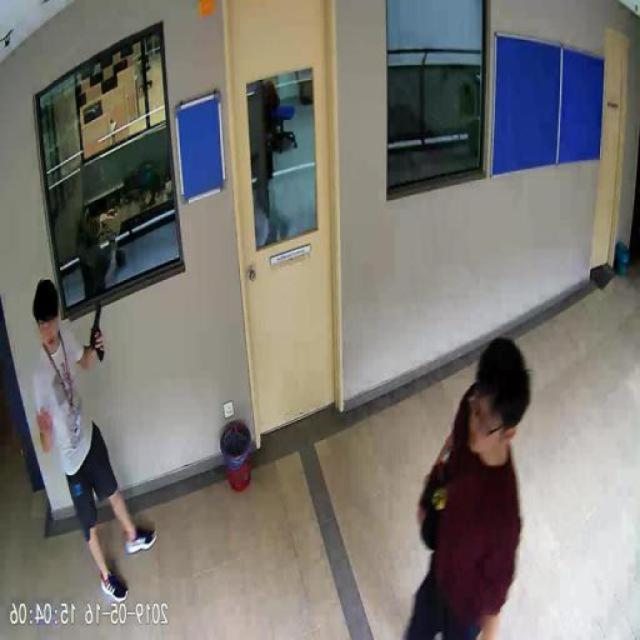pistol: (91, 300, 108, 360)
